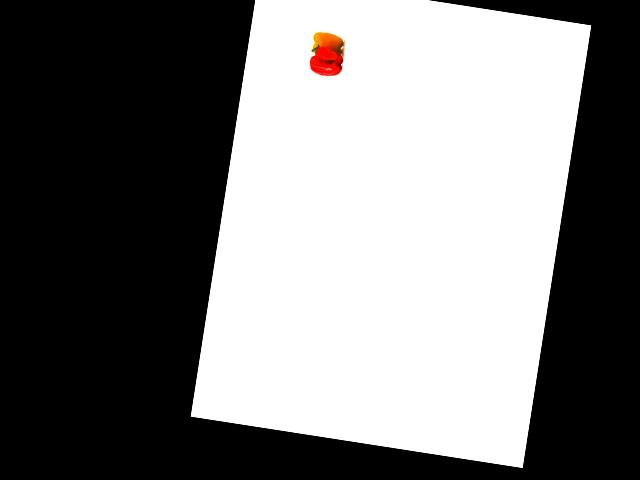bell_pepper: (311, 30, 346, 60)
